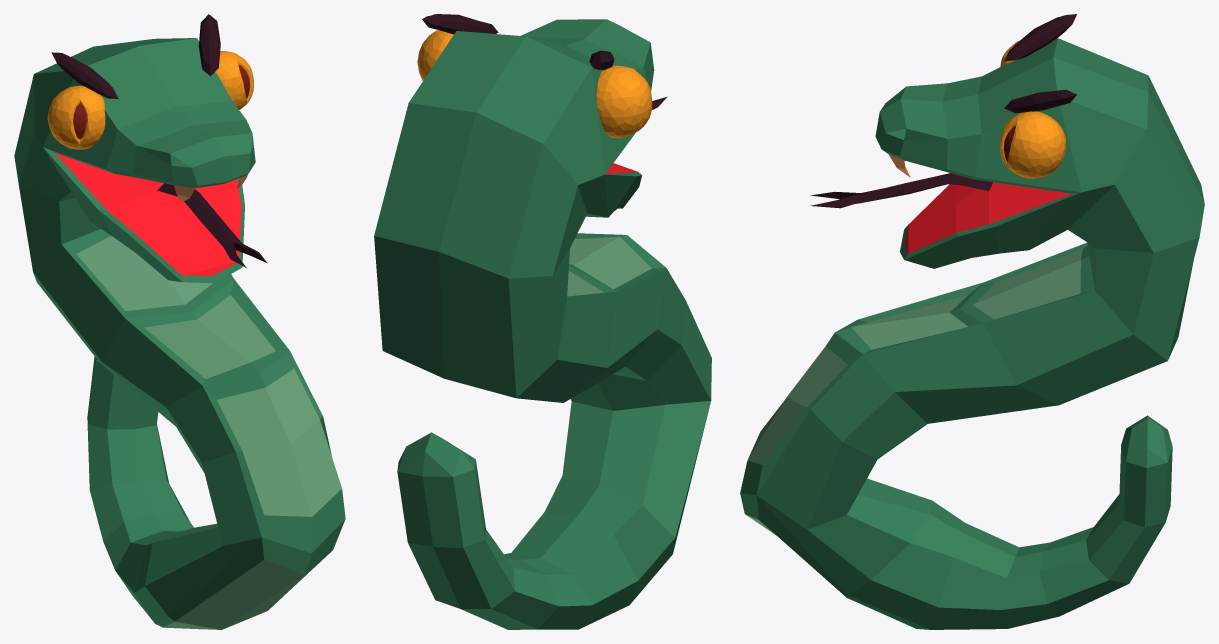
The model's file is Snake_Angry_000005.obj.
The picture shows the model from 3 angles, left to right: view 1: azimuth 30°, elevation 25°; view 2: azimuth 150°, elevation 25°; view 3: azimuth 270°, elevation 25°; orthographic projection. The views are drawn at different scales.
Visible parts, largest first — view 1: Snake_Cylinder; view 2: Snake_Cylinder; view 3: Snake_Cylinder.
Part boxes in pixels (x1,y1,x2,y2): Snake_Cylinder: (14,14,345,629); Snake_Cylinder: (374,14,711,629); Snake_Cylinder: (740,14,1204,629).
Size of the model in its own units: 1.05 by 2.76 by 2.03.
